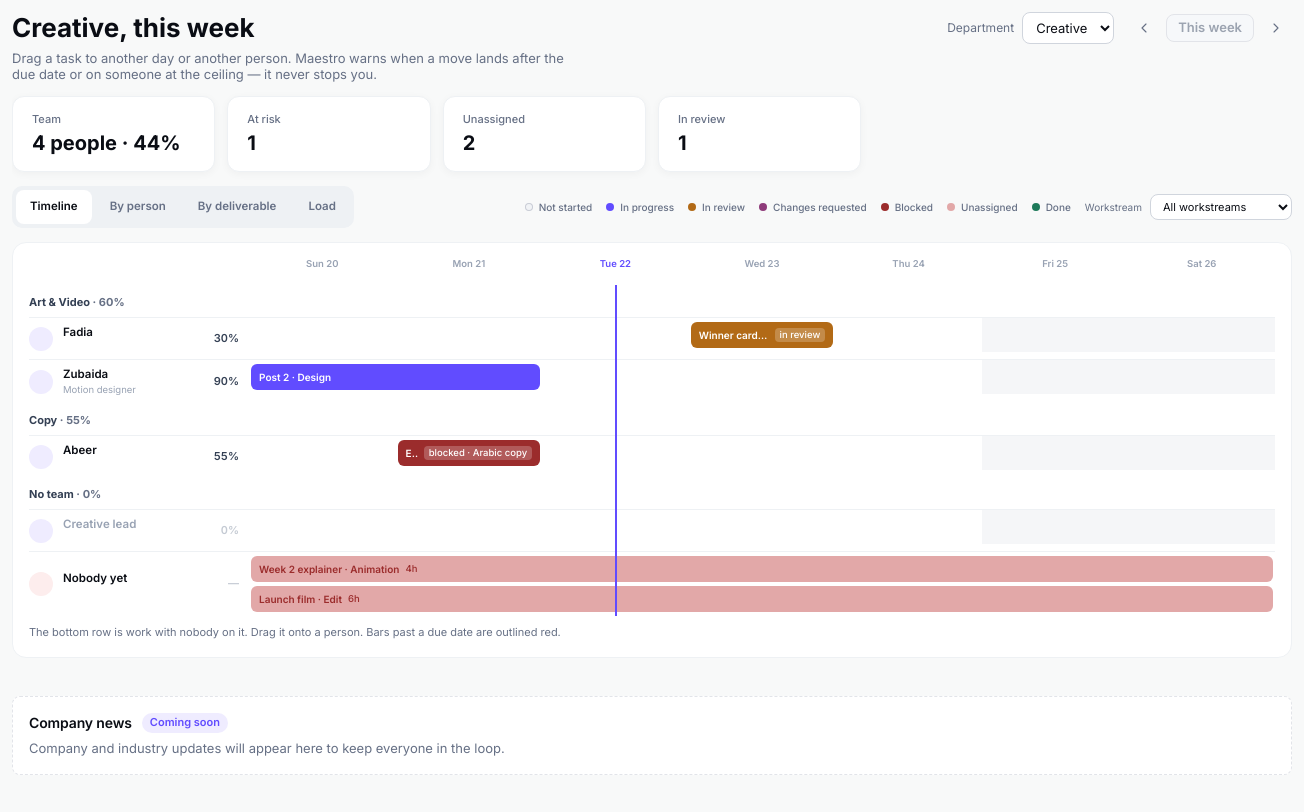
scope — who sees which rows (ADR-0105 d.4) › anyone else picks a department — their own if they have one, else the first alphabetically
This screenshot has width=1304, height=812.
Select "Strategy" in the dropdown with test id "team-department-picker" at (1068, 28), box [1022,12,1114,44]
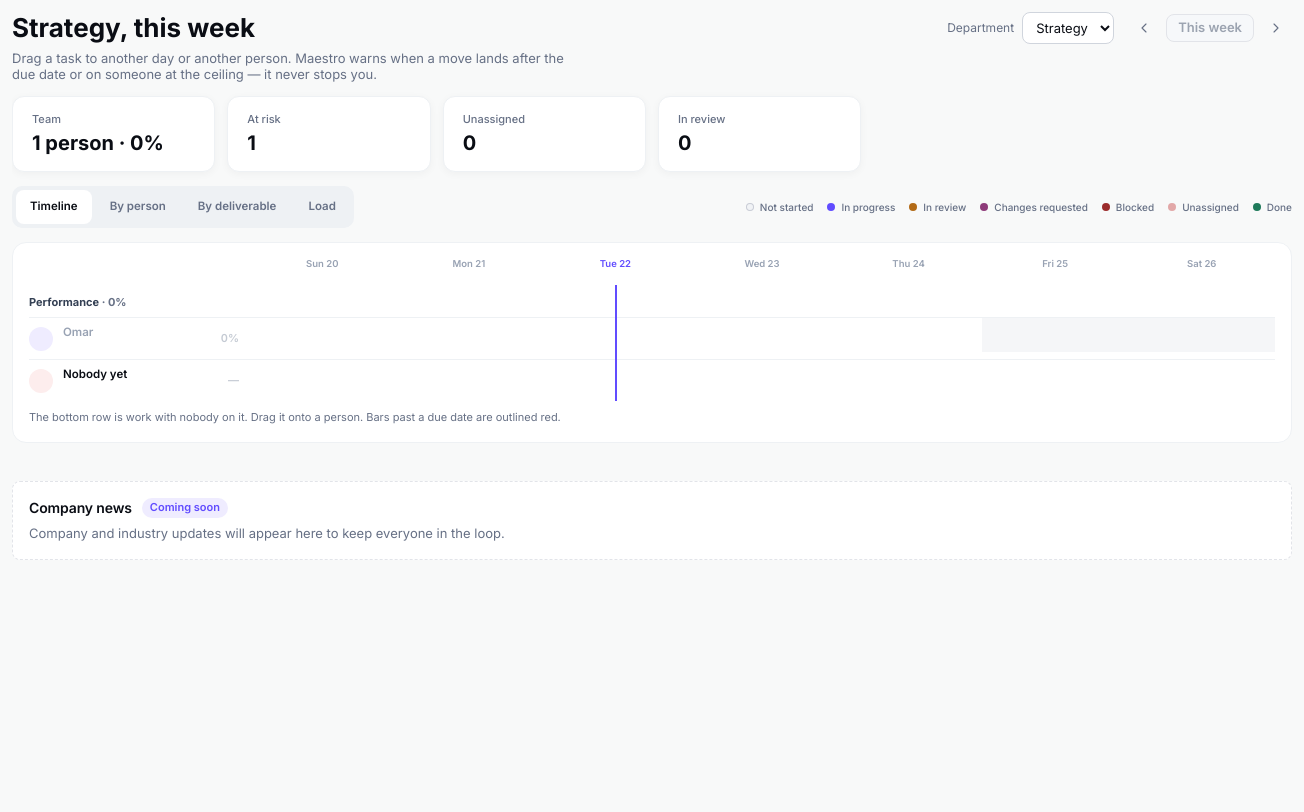
Check: the element with test id "team-row-r-o" is shown, box [29,317,1275,359]
Check: the element with test id "team-row-r-z" is gone
